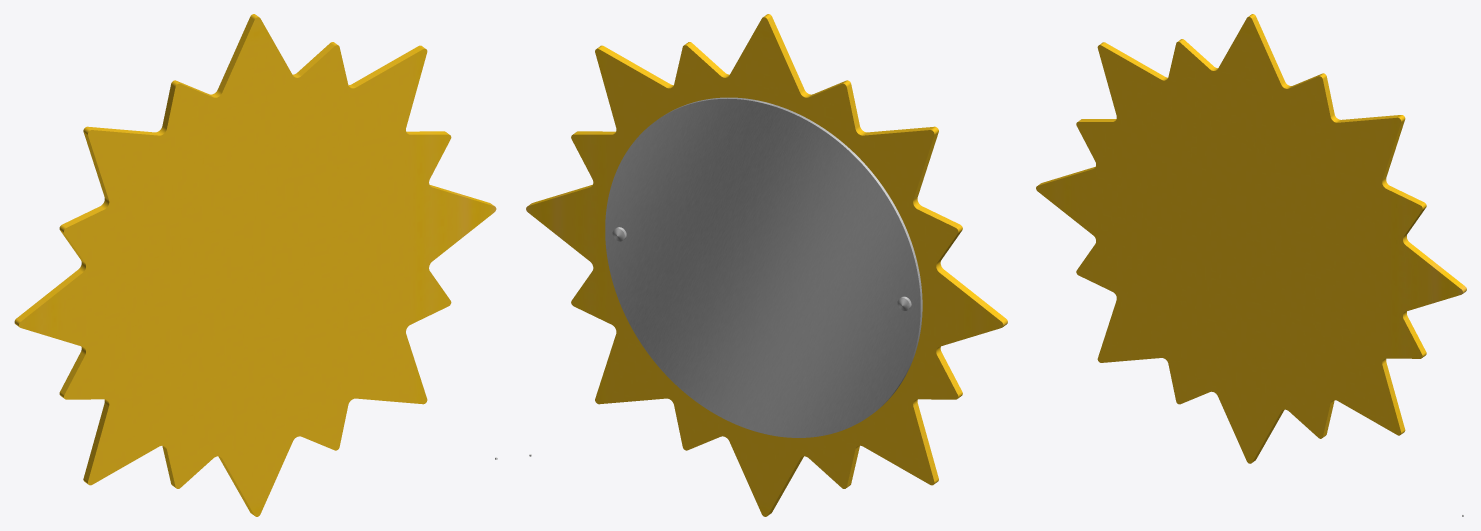
File: zerkalo_zvezdochka.glb
3 views of the same model, side by side, from view 1: azimuth 30°, elevation 25°; view 2: azimuth 150°, elevation 25°; view 3: azimuth 330°, elevation 25° (orthographic). The views are drawn at different scales.
Parts seen in each view (by area): view 1: Shape_IndexedFaceSet.001; view 2: Shape_IndexedFaceSet_NON, Shape_IndexedFaceSet.001; view 3: Shape_IndexedFaceSet.001.
Part boxes in pixels (box(x1,y1,x2,y2)): Shape_IndexedFaceSet.001: box(14, 14, 496, 516); Shape_IndexedFaceSet_NON: box(605, 97, 922, 437); Shape_IndexedFaceSet.001: box(526, 14, 1007, 516); Shape_IndexedFaceSet.001: box(1036, 14, 1466, 463).
Size of the model in its own units: 621 by 621 by 22.5.
Materials: 5 (4 with a texture image).
